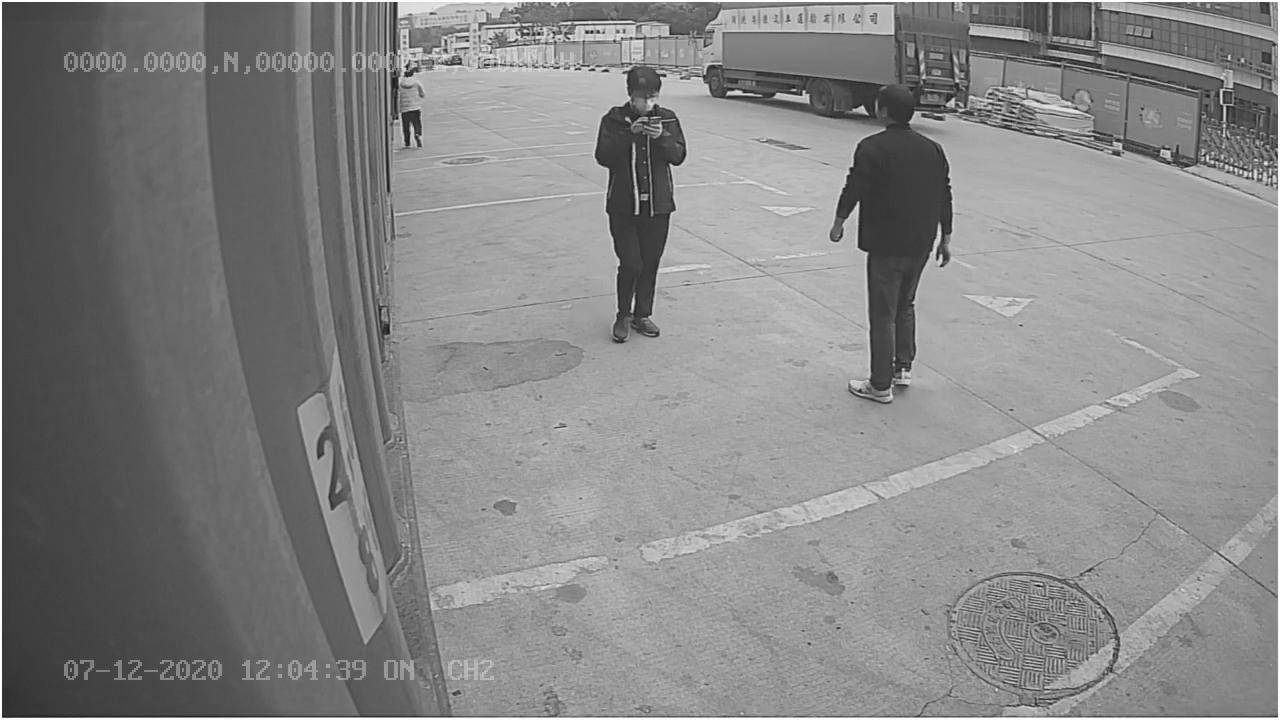person: (591, 57, 691, 345)
